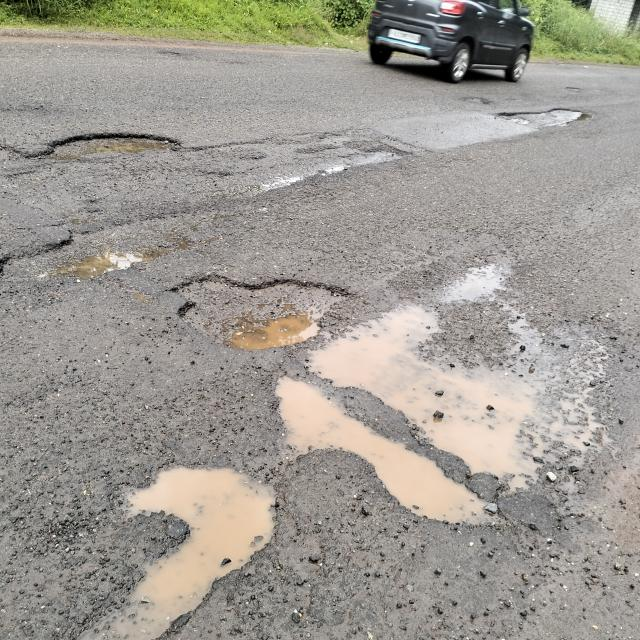pothole: (270, 254, 624, 536), (73, 459, 285, 640), (141, 272, 371, 360), (0, 195, 217, 288), (227, 132, 417, 198), (17, 126, 193, 174), (494, 106, 598, 132), (455, 90, 500, 109), (565, 82, 584, 100)
